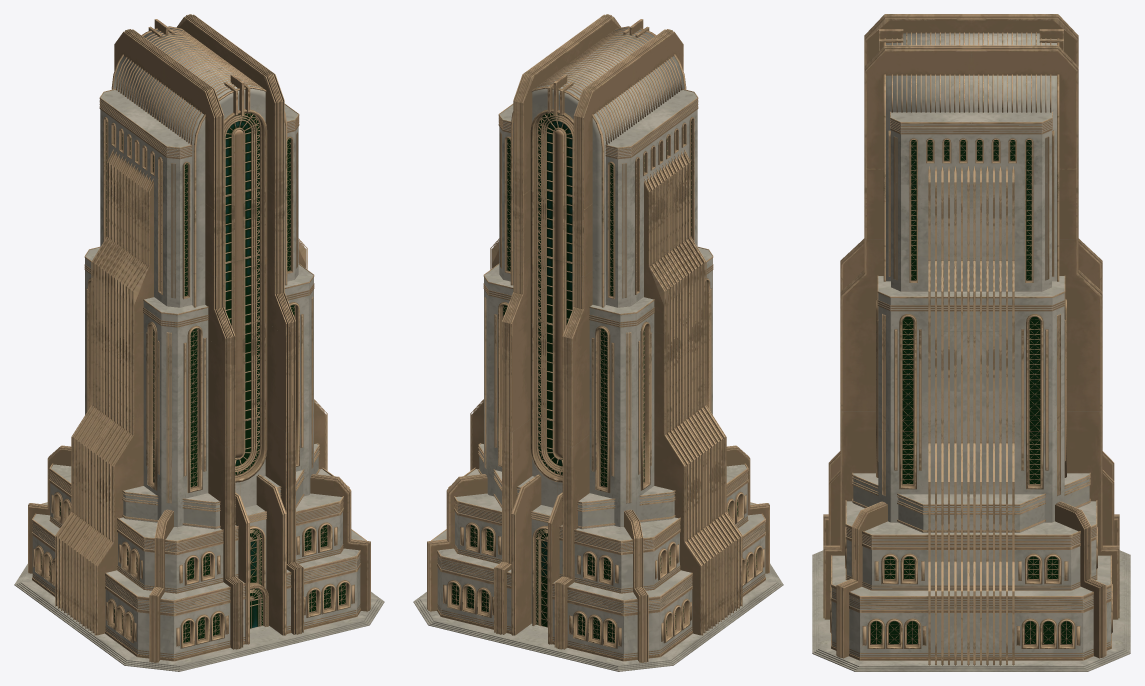
File: building.draco.glb
3 renders of one model, left to right at view 1: azimuth 30°, elevation 25°; view 2: azimuth 150°, elevation 25°; view 3: azimuth 270°, elevation 25°, orthographic. The views are drawn at different scales.
Parts seen in each view (by area): view 1: FC01 B; view 2: FC01 B; view 3: FC01 B.
Boxes of the visible parts, bbox=[...] form: FC01 B: bbox=[14, 14, 384, 671]; FC01 B: bbox=[413, 14, 783, 671]; FC01 B: bbox=[812, 14, 1130, 671].
Bounding box in the file's own units: 35.38 × 70.54 × 35.38.
Materials: 1 (1 with a texture image).
